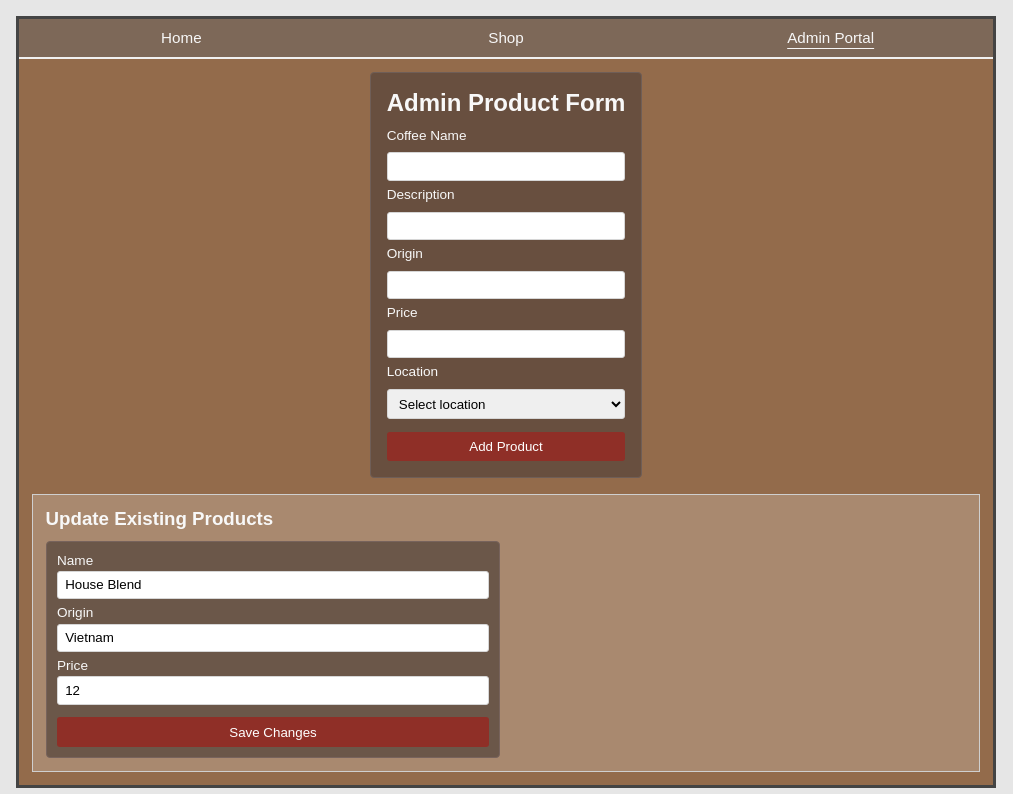
Admin interactions › submits admin form and sends POST request
Check: the heading "Admin Product Form" is shown, box [387, 89, 625, 117]
Type "Morning Roast" into the field labelled "Coffee Name". click: (506, 166)
box: [387, 152, 625, 180]
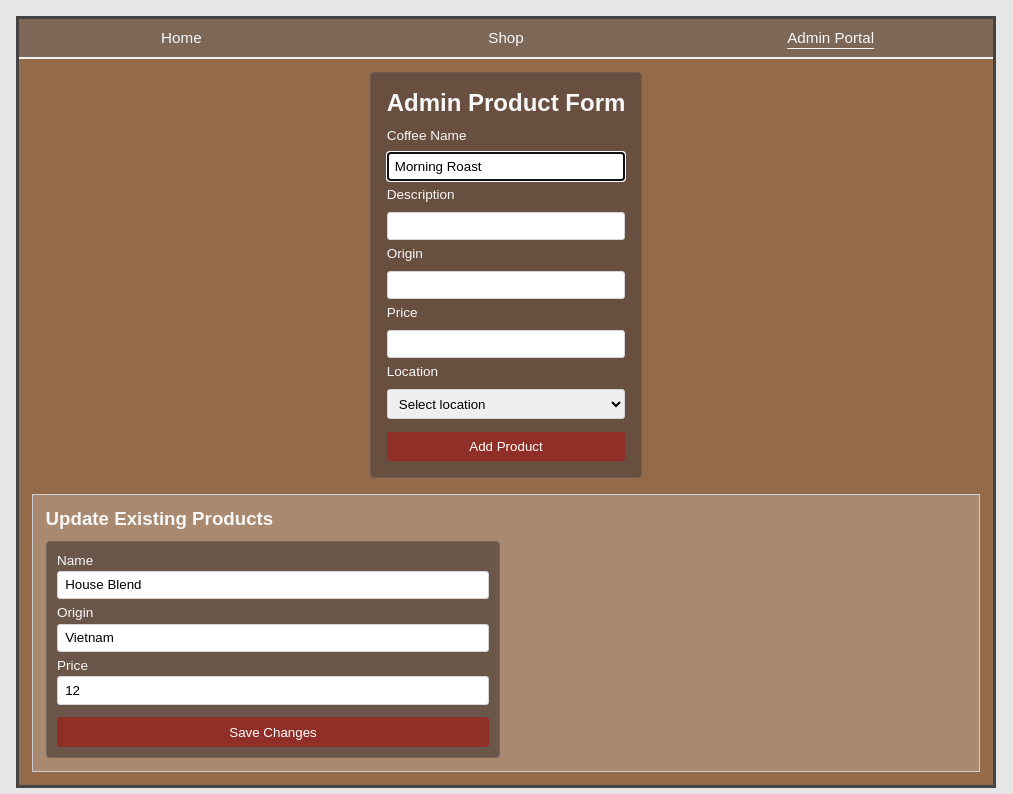
Type "Smooth blend" into the field labelled "Description". click: (506, 226)
box: [387, 212, 625, 240]
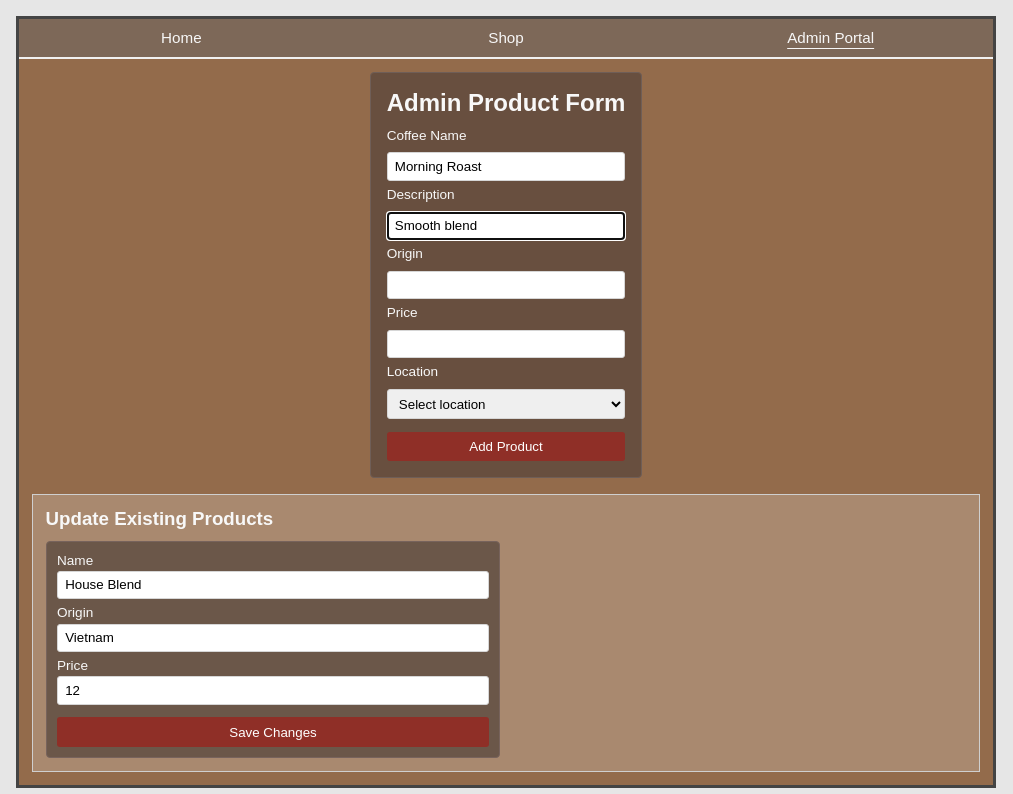
Type "Kenya" into the field labelled "Origin" below "Description". click: (506, 285)
box: [387, 271, 625, 299]
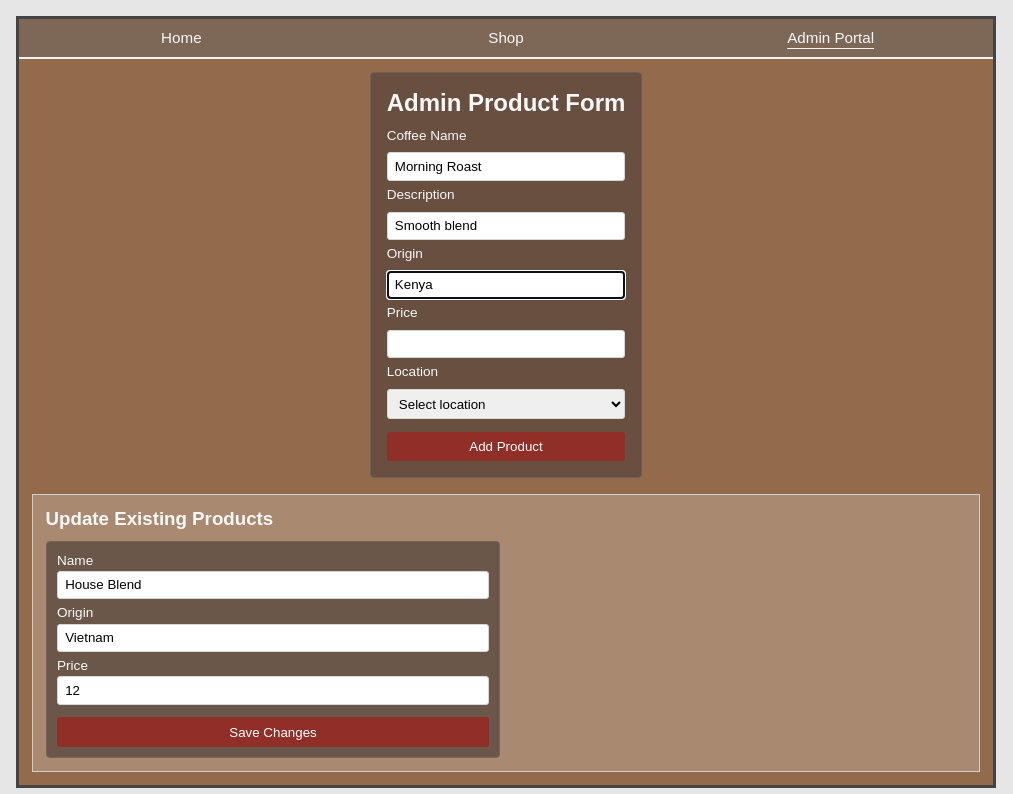
Type "11.25" into the number field labelled "Price" below "Description". click: (506, 344)
box: [387, 330, 625, 358]
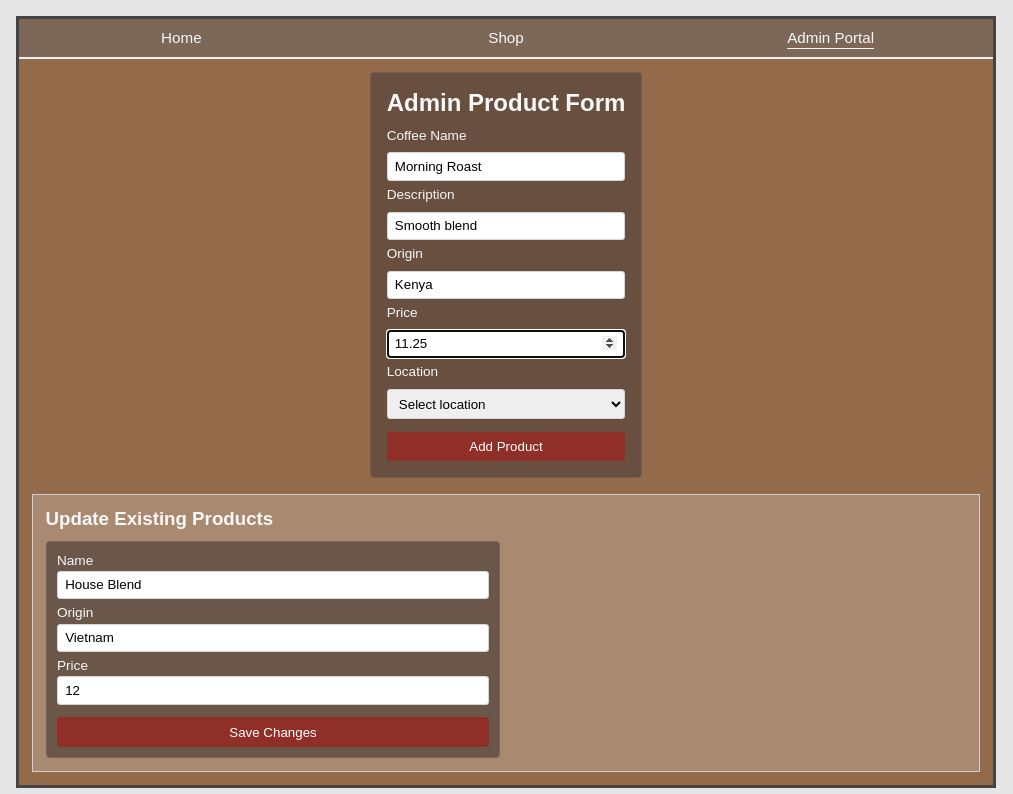
Select "location 2" in the dropdown labelled "Location". click: (506, 404)
box: [387, 389, 625, 419]
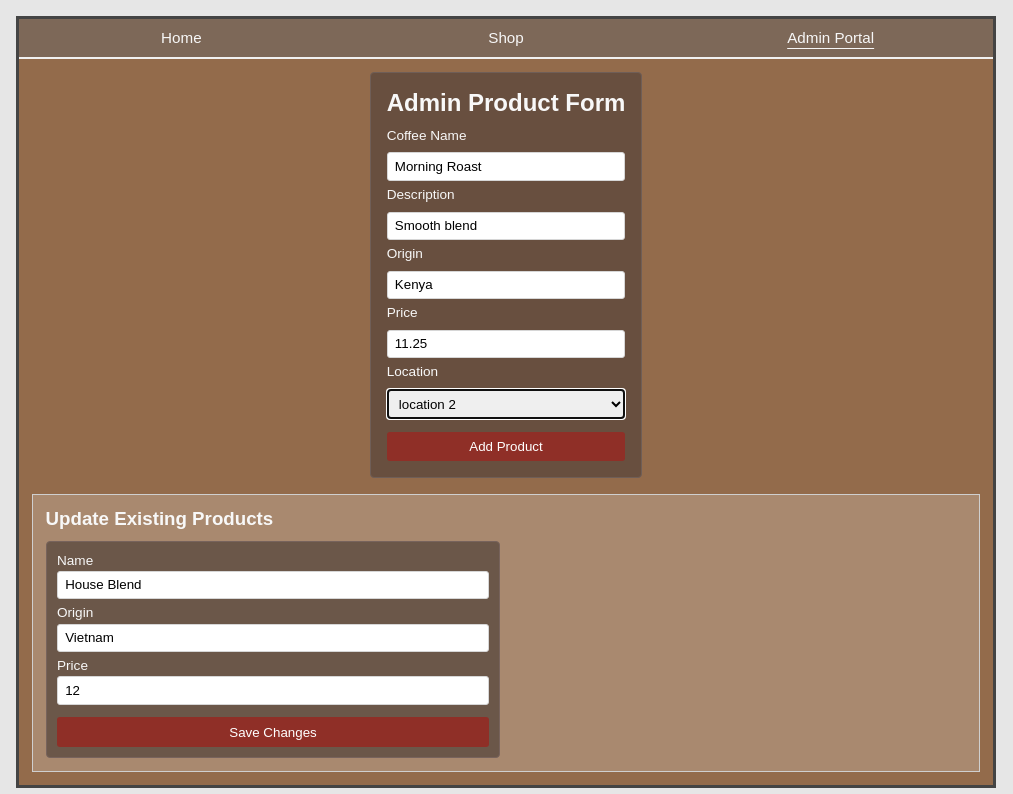
Click the button "Add Product". click: (506, 447)
box: [387, 432, 625, 461]
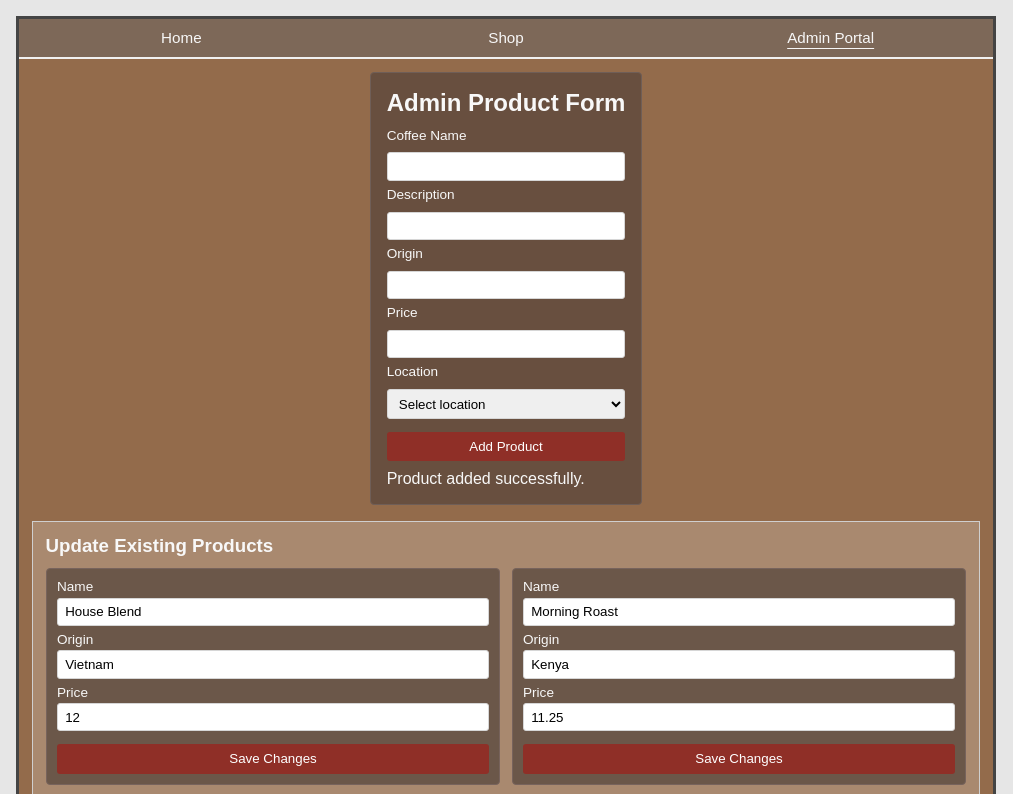
Check: the text "Product added successfully." is shown, box [387, 470, 585, 487]
